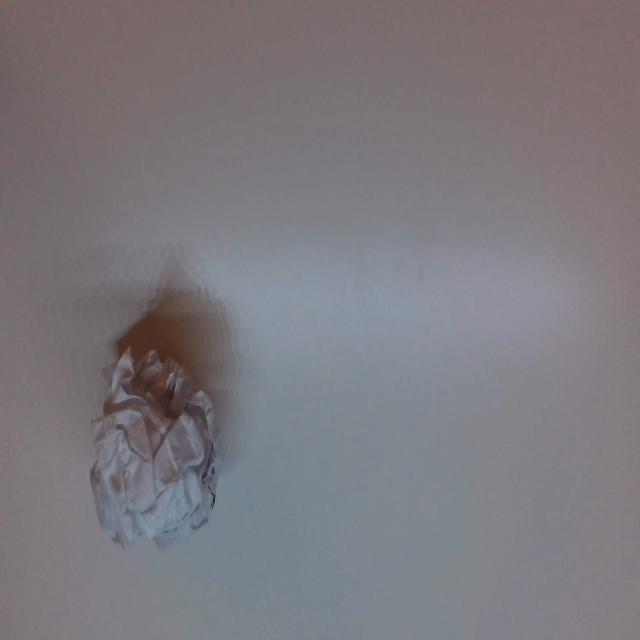Paper: (93, 344, 217, 545)
